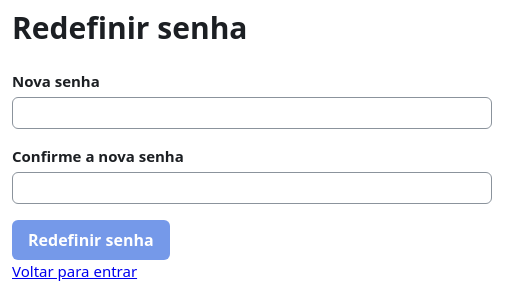
resultado › confirma o sucesso e oferece entrar com a senha nova
The width and height of the screenshot is (513, 298).
In the password field labelled "Nova senha": (252, 113) [12,97,492,129], type "senha-nova-123"
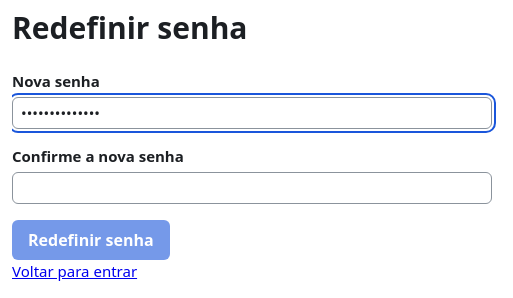
In the password field labelled "Confirme a nova senha": (252, 188) [12,172,492,204], type "senha-nova-123"
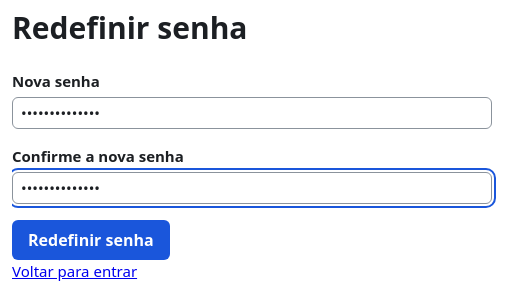
Click the button "Redefinir senha": (91, 240) [12,220,170,260]
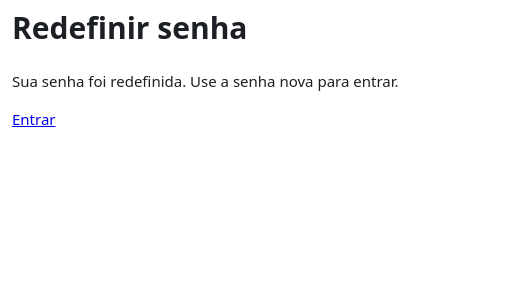
Check: the message reads "Sua senha foi redefinida. Use a senha nova para entrar.", box [12,71,398,91]
Check: the label labelled "Nova senha" is gone
